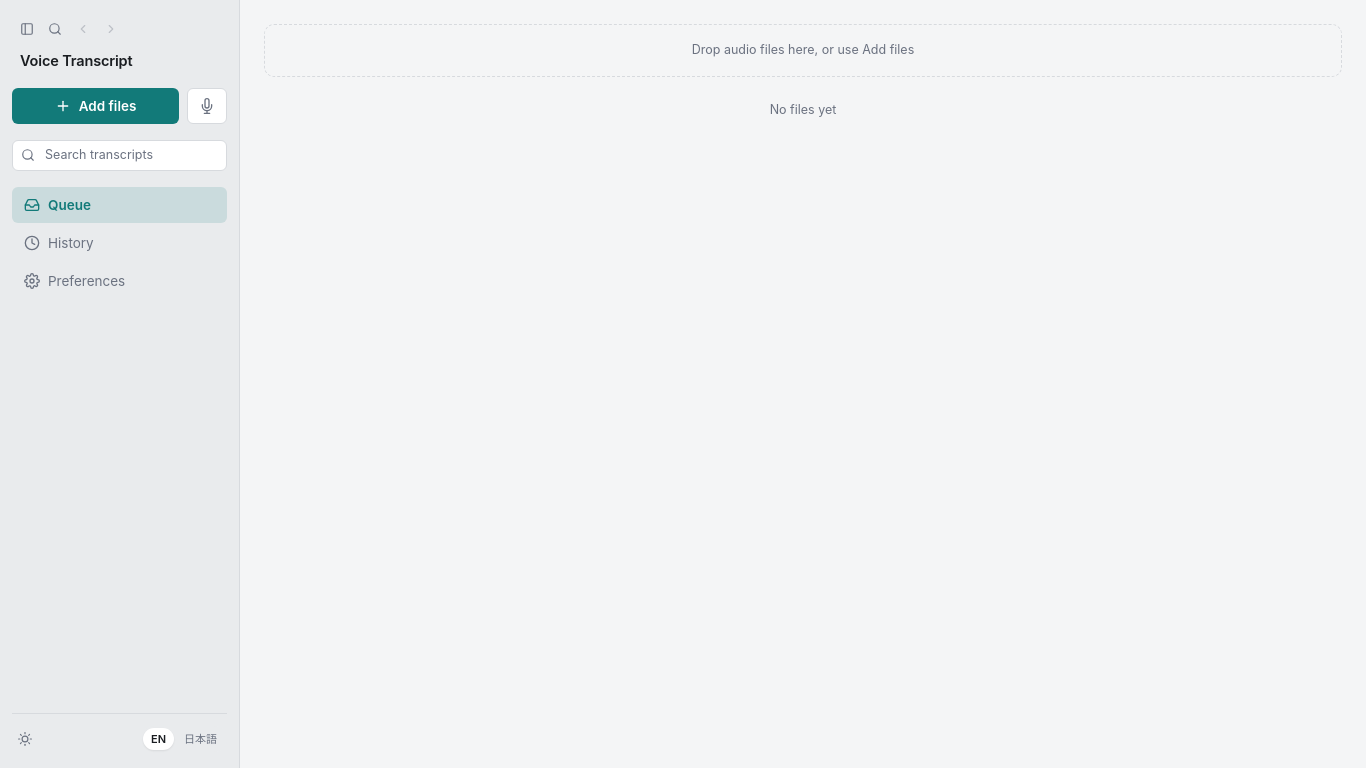
Test: QueueView › switching to the History nav item responds immediately, even with zero history entries
Click the button "History": (120, 243) [12,225,227,261]
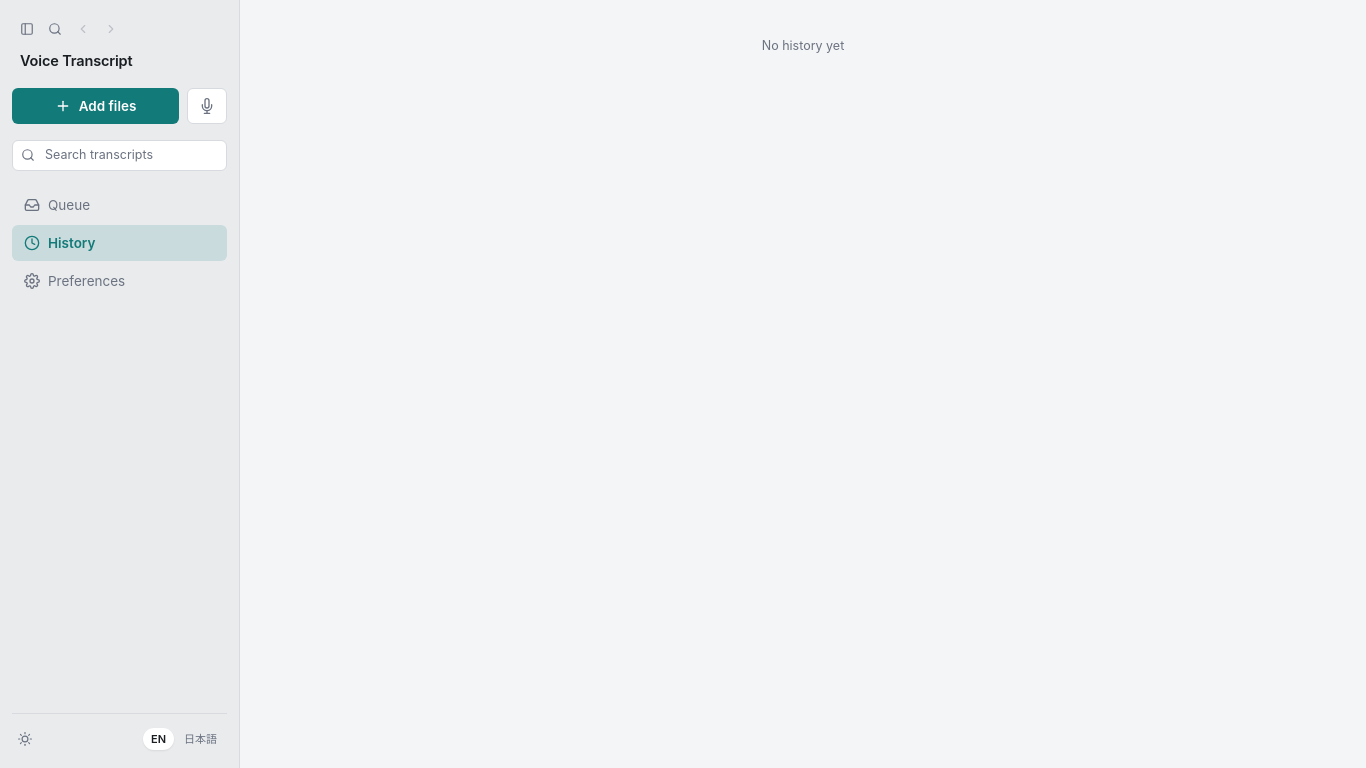
Now the text "No files yet" is gone
Now the text "No history yet" is shown, box [762,38,844,52]
Click the button "Queue": (120, 205) [12,187,227,223]
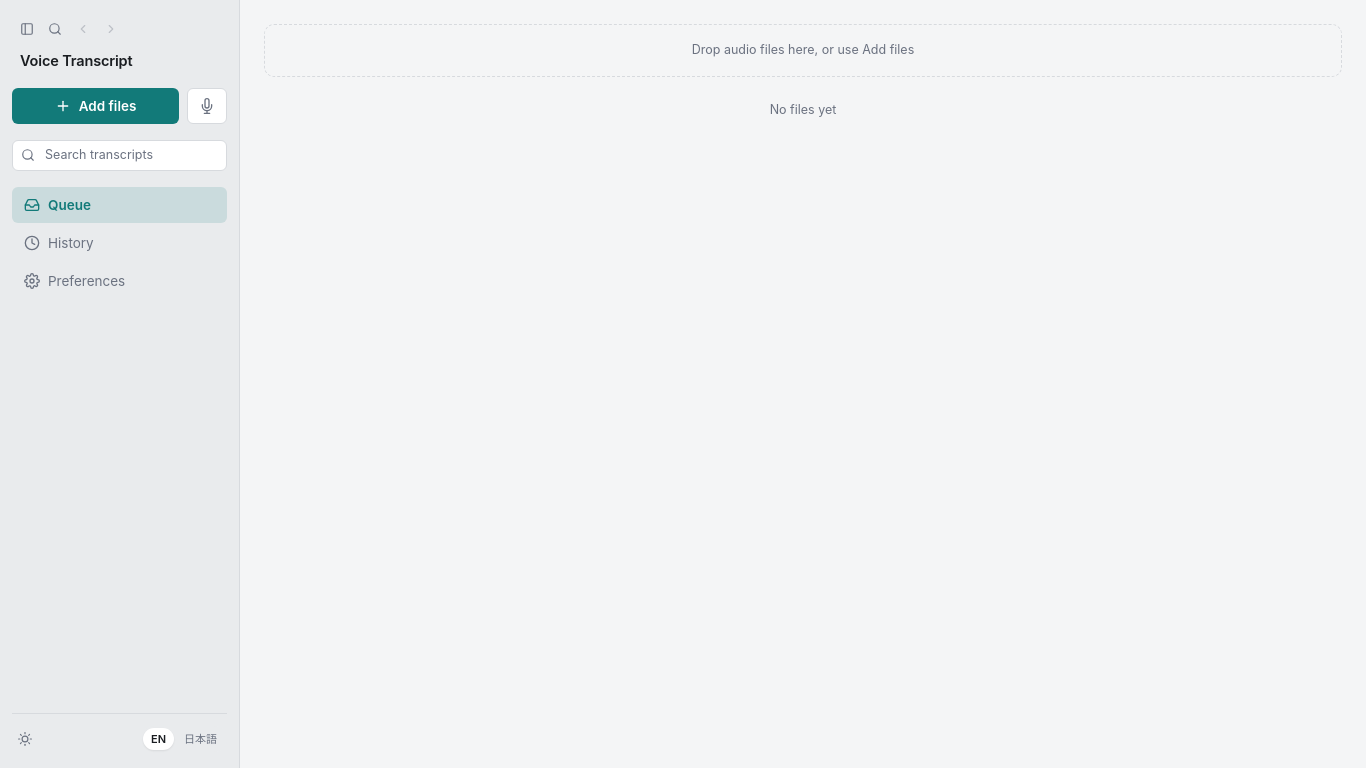
Now the text "No files yet" is shown, box [770,102,836,117]
